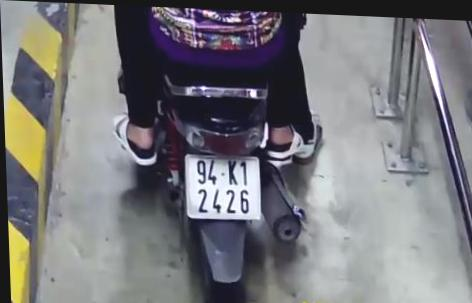License_Plate: (174, 151, 274, 226)
